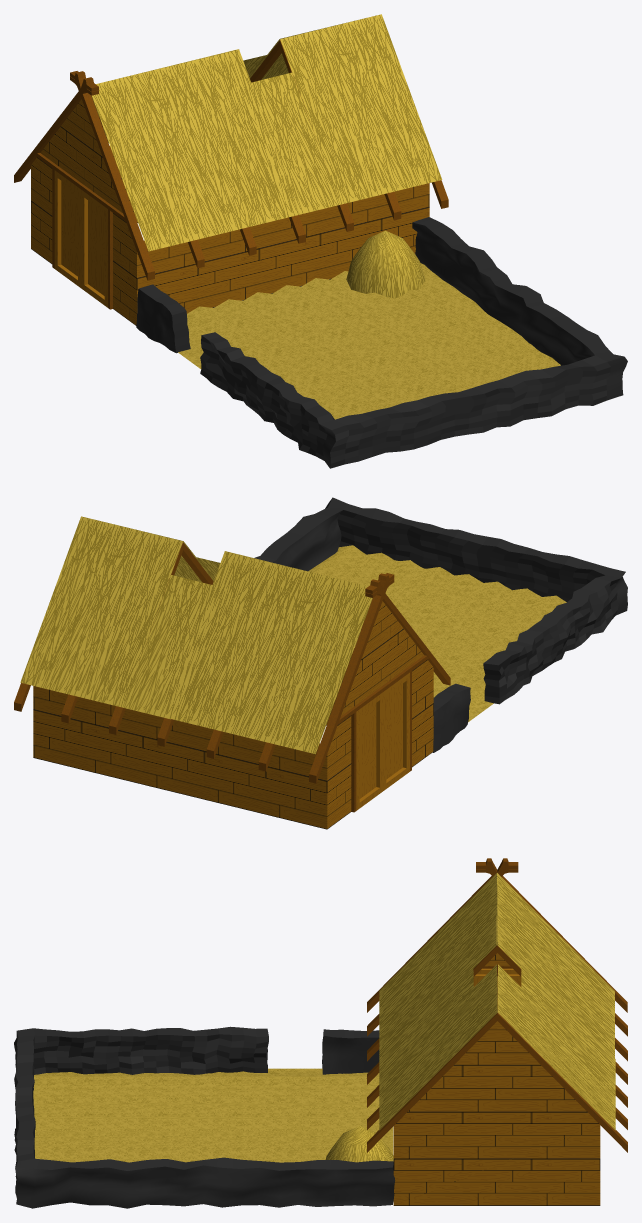
File: Granja.FBX
3 renders of one model, top to bottom at view 1: azimuth 30°, elevation 25°; view 2: azimuth 150°, elevation 25°; view 3: azimuth 270°, elevation 25°, orthographic. The views are drawn at different scales.
Parts seen in each view (by area): view 1: Campo, MuroPiedra002, Tejado021, ParedCasa001, Tejado025, Tejado023, PilaHeno, PuertaCasaComunal004, PuertaCasaComunal005, MuroPiedra003, VigaDragonTejado004, MarcoPuertaSalonComunal002 (+1 smaller); view 2: ParedCasa001, Tejado024, MuroPiedra002, Tejado026, Campo, Tejado022, Tejado027, PuertaCasaComunal004, PuertaCasaComunal005, Tejado029, VigaDragonTejado005, MuroPiedra003 (+4 smaller); view 3: MuroPiedra002, Campo, ParedCasa001, Tejado021, Tejado024, Tejado026, Tejado025, MuroPiedra003, Tejado022, Tejado023, PilaHeno, VigaTejado033 (+4 smaller).
Boxes of the visible parts, x1,y1,x2,y2 form: Campo: [178, 263, 560, 419]; MuroPiedra002: [200, 217, 627, 468]; Tejado021: [92, 49, 299, 251]; ParedCasa001: [31, 99, 429, 325]; Tejado025: [280, 14, 442, 204]; Tejado023: [251, 72, 340, 214]; PilaHeno: [346, 230, 425, 298]; PuertaCasaComunal004: [54, 170, 81, 287]; PuertaCasaComunal005: [81, 190, 107, 307]; MuroPiedra003: [136, 284, 190, 353]; VigaDragonTejado004: [70, 71, 154, 280]; MarcoPuertaSalonComunal002: [35, 153, 125, 309]; ParedCasa001: [33, 601, 433, 829]; Tejado024: [171, 551, 372, 754]; MuroPiedra002: [254, 497, 627, 704]; Tejado026: [20, 516, 182, 707]; Campo: [308, 545, 566, 722]; Tejado022: [123, 575, 211, 716]; Tejado027: [123, 582, 219, 719]; PuertaCasaComunal004: [356, 692, 383, 810]; PuertaCasaComunal005: [383, 672, 409, 790]; Tejado029: [28, 519, 120, 706]; VigaDragonTejado005: [309, 573, 394, 783]; MuroPiedra003: [433, 683, 470, 752]; MuroPiedra002: [14, 1026, 395, 1208]; Campo: [33, 1068, 393, 1162]; ParedCasa001: [393, 953, 600, 1205]; Tejado021: [379, 873, 497, 1062]; Tejado024: [496, 873, 614, 1057]; Tejado026: [497, 964, 615, 1130]; Tejado025: [379, 964, 497, 1130]; MuroPiedra003: [322, 1029, 379, 1074]; Tejado022: [521, 969, 615, 1081]; Tejado023: [379, 969, 473, 1081]; PilaHeno: [325, 1126, 393, 1162]; VigaTejado033: [367, 1010, 497, 1152].
Bounding box in the file's own units: 825 × 557 × 1485.
